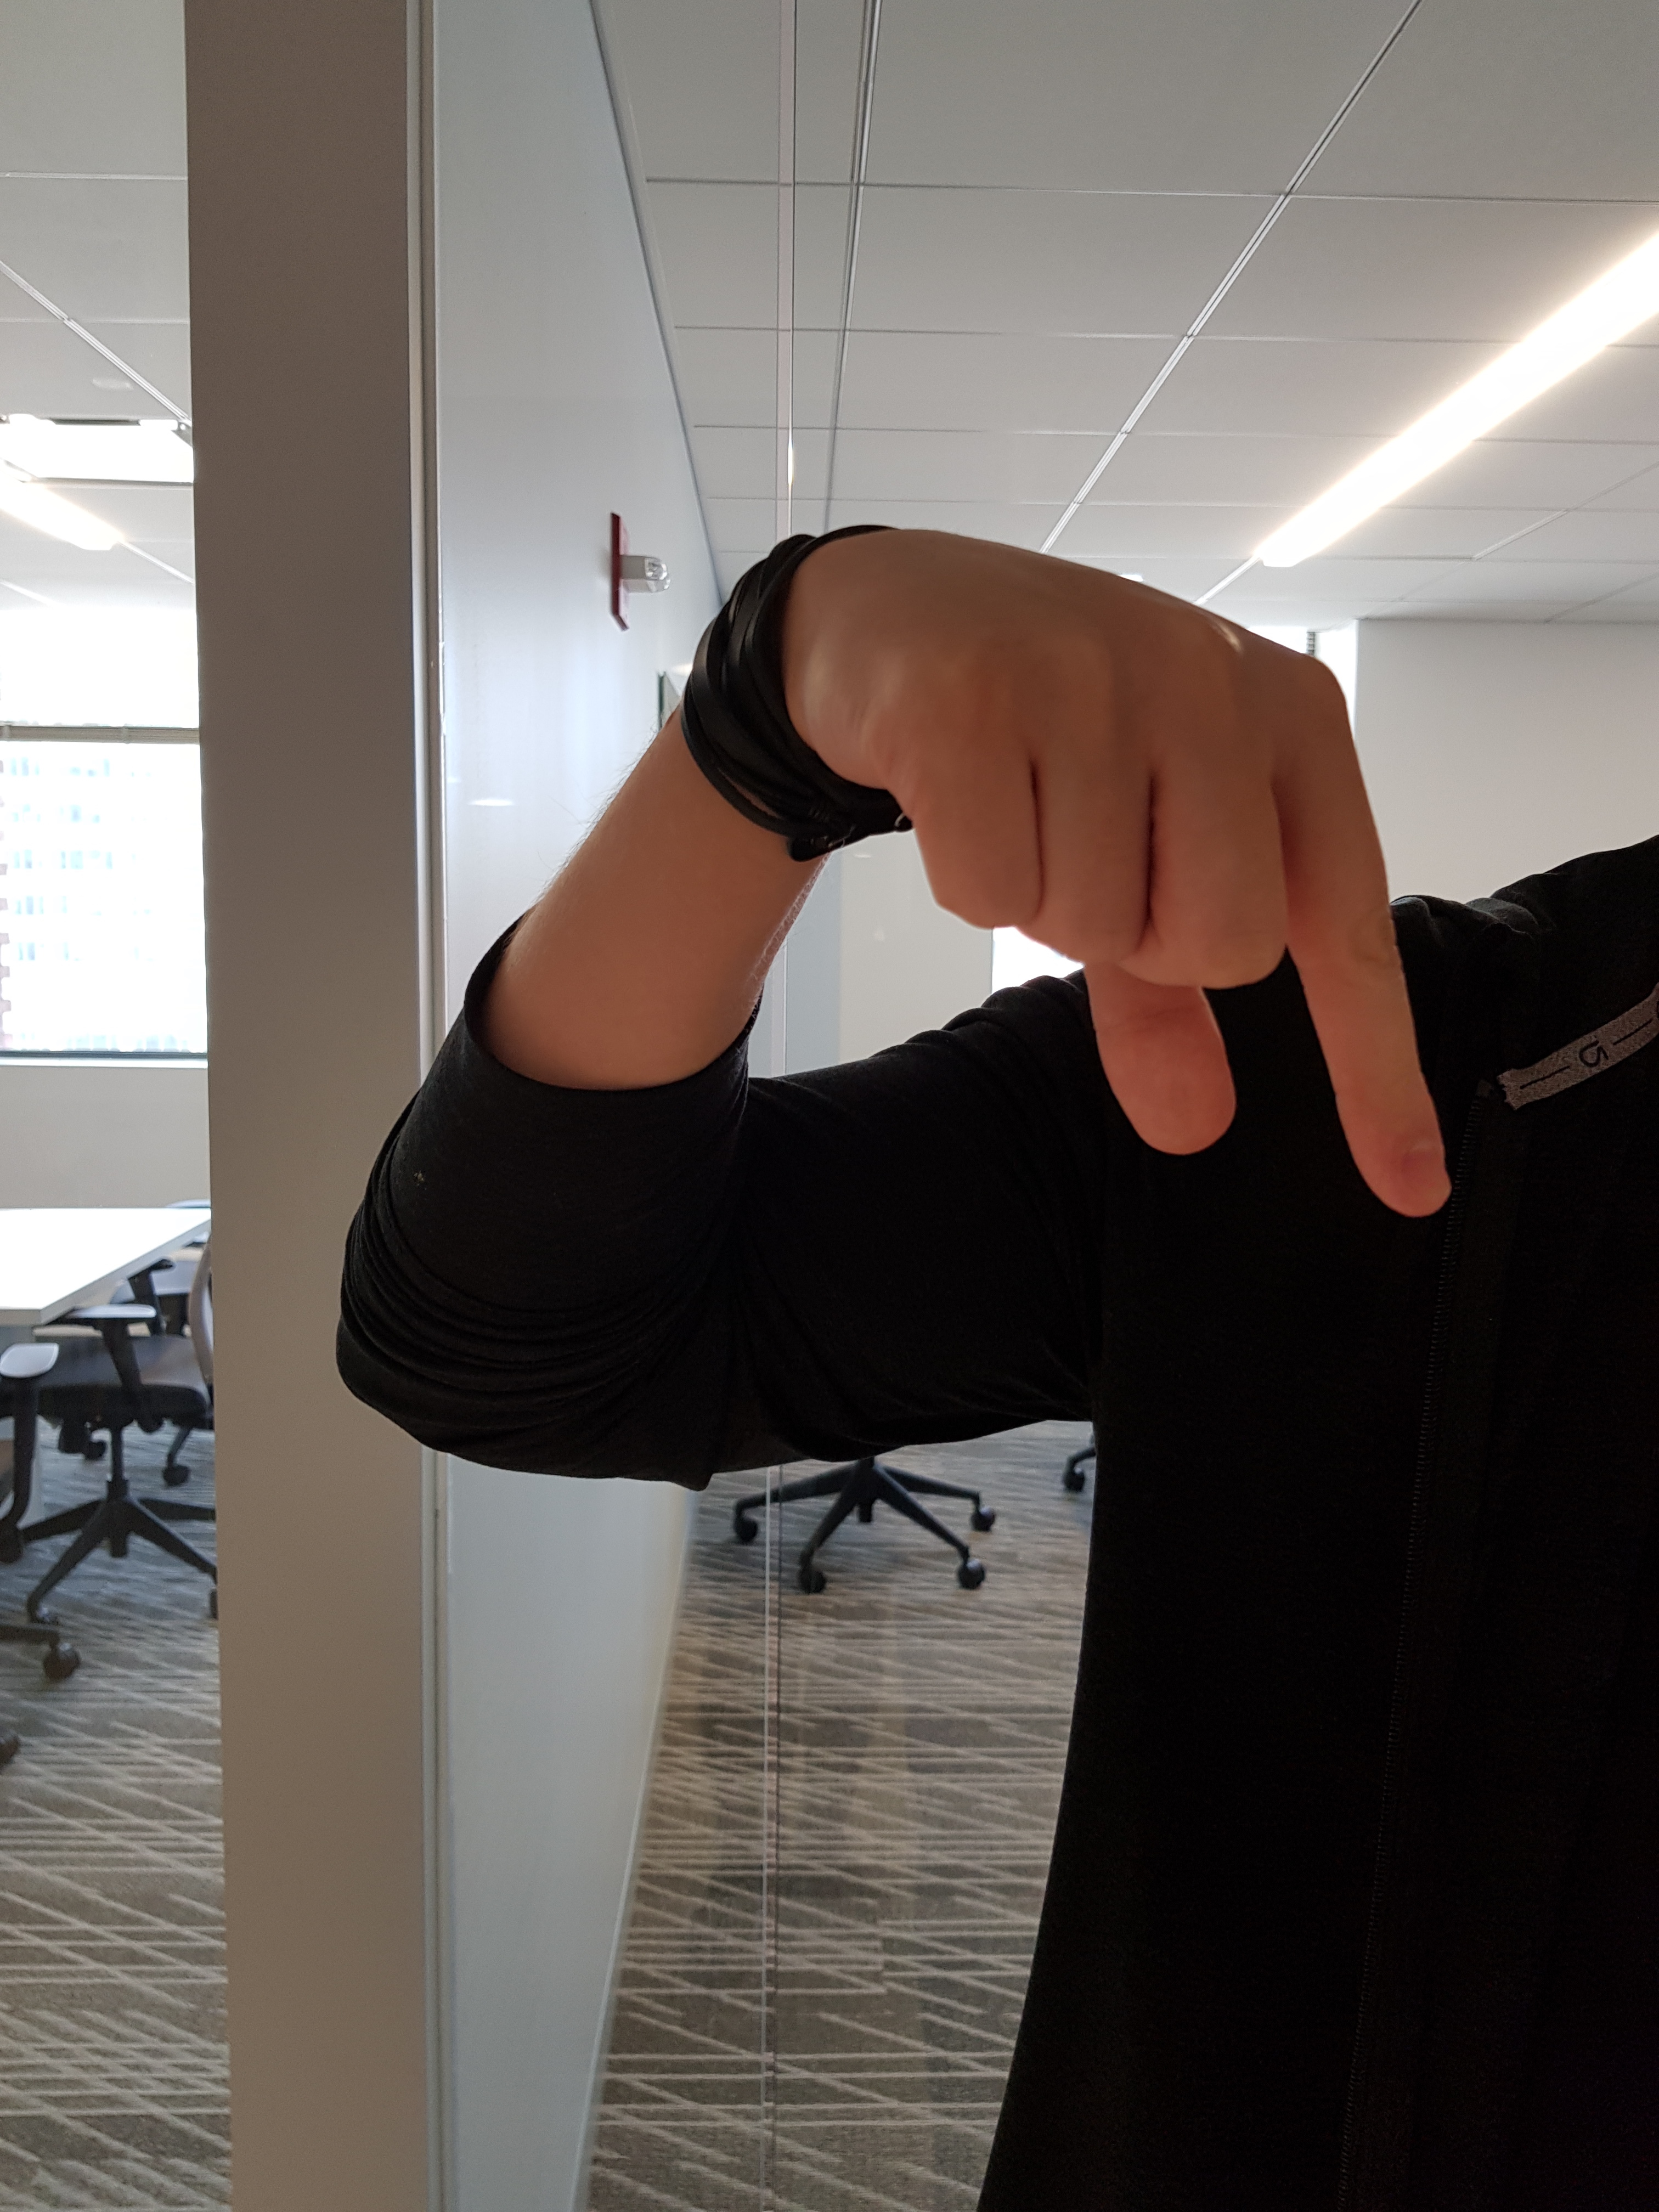q: (605, 467, 1493, 1280)
